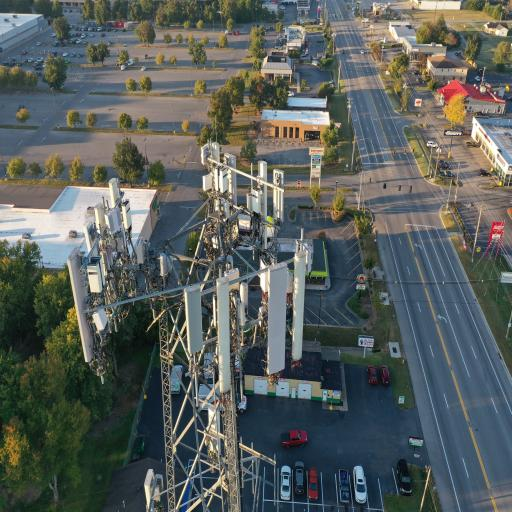supporting_tower: (66, 137, 313, 512)
